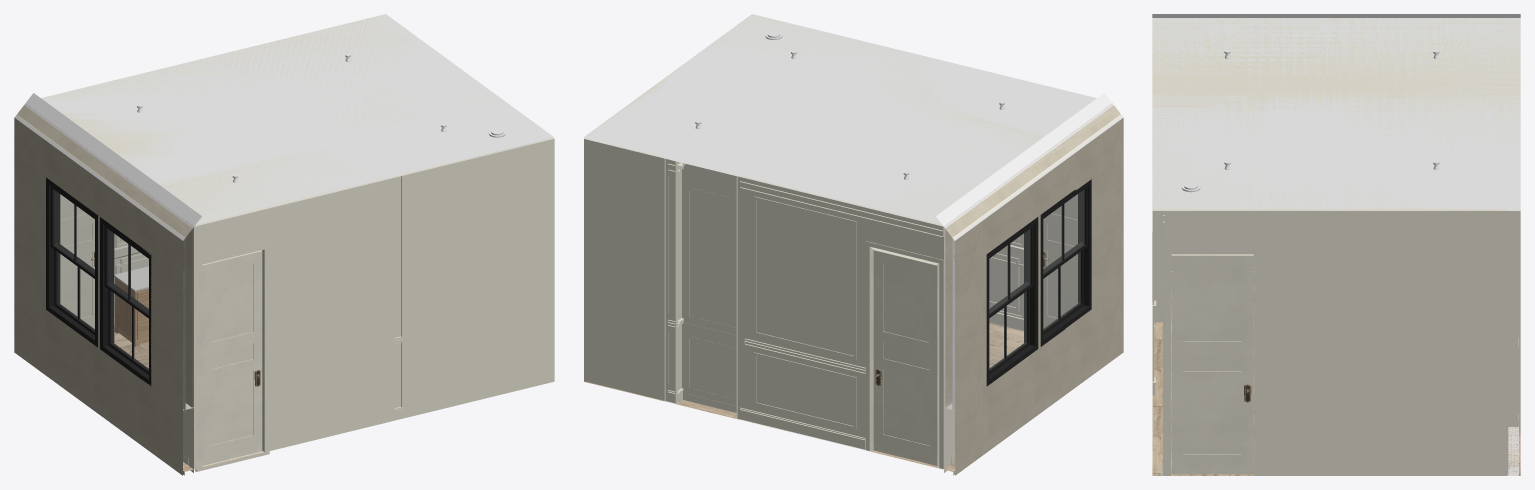
Rendered from green-bedroom-831df97ea1fa.glb.
3 renders of one model, left to right at view 1: azimuth 30°, elevation 25°; view 2: azimuth 150°, elevation 25°; view 3: azimuth 270°, elevation 25°, orthographic. The views are drawn at different scales.
Visible parts, largest first — view 1: green-bedroom-eb02897c2e79e2b1, green-bedroom-9d91b47435c6fb33, green-bedroom-e8793759323e04f0, green-bedroom-312b4ac1be39223d, green-bedroom-7406100458e293ce, green-bedroom-33ee0b466567e5f0, green-bedroom-eea30be35ce76d8a, green-bedroom-b27266f3159d5f34, green-bedroom-5e646f76b0244fe8, green-bedroom-39b94aca90fa4b53, green-bedroom-3a4d9d62ecd7be1c, green-bedroom-442e5a19ed849720 (+4 smaller); view 2: green-bedroom-9d91b47435c6fb33, green-bedroom-b6ab44e8ab2b63f4, green-bedroom-8d8280a2b3ef8b4c, green-bedroom-312b4ac1be39223d, green-bedroom-5e646f76b0244fe8, green-bedroom-689020e0fc226264, green-bedroom-33ee0b466567e5f0, green-bedroom-e8793759323e04f0, green-bedroom-eea30be35ce76d8a, green-bedroom-b27266f3159d5f34, green-bedroom-7406100458e293ce, green-bedroom-4fe5579be934d30a (+10 smaller); view 3: green-bedroom-64efeecf845bccca, green-bedroom-9d91b47435c6fb33, green-bedroom-e8793759323e04f0, green-bedroom-b50904fb6ee0544e, green-bedroom-2575515a05775d9e, green-bedroom-689020e0fc226264, green-bedroom-34287d1b870c745c, green-bedroom-eb02897c2e79e2b1, green-bedroom-442e5a19ed849720, green-bedroom-8d8280a2b3ef8b4c, green-bedroom-4fe5579be934d30a.
Boxes of the visible parts, x1=… form: green-bedroom-eb02897c2e79e2b1: x1=188, y1=139, x2=554, y2=469; green-bedroom-9d91b47435c6fb33: x1=25, y1=14, x2=554, y2=226; green-bedroom-e8793759323e04f0: x1=27, y1=14, x2=537, y2=224; green-bedroom-312b4ac1be39223d: x1=14, y1=116, x2=184, y2=409; green-bedroom-7406100458e293ce: x1=202, y1=250, x2=262, y2=465; green-bedroom-33ee0b466567e5f0: x1=14, y1=287, x2=193, y2=475; green-bedroom-eea30be35ce76d8a: x1=46, y1=177, x2=97, y2=347; green-bedroom-b27266f3159d5f34: x1=100, y1=217, x2=151, y2=386; green-bedroom-5e646f76b0244fe8: x1=60, y1=194, x2=94, y2=328; green-bedroom-39b94aca90fa4b53: x1=17, y1=105, x2=192, y2=409; green-bedroom-3a4d9d62ecd7be1c: x1=24, y1=103, x2=193, y2=407; green-bedroom-442e5a19ed849720: x1=201, y1=247, x2=266, y2=467; green-bedroom-9d91b47435c6fb33: x1=583, y1=14, x2=1112, y2=226; green-bedroom-b6ab44e8ab2b63f4: x1=736, y1=176, x2=949, y2=469; green-bedroom-8d8280a2b3ef8b4c: x1=584, y1=138, x2=681, y2=403; green-bedroom-312b4ac1be39223d: x1=953, y1=116, x2=1123, y2=409; green-bedroom-5e646f76b0244fe8: x1=873, y1=250, x2=937, y2=465; green-bedroom-689020e0fc226264: x1=676, y1=160, x2=737, y2=418; green-bedroom-33ee0b466567e5f0: x1=944, y1=287, x2=1123, y2=475; green-bedroom-e8793759323e04f0: x1=585, y1=14, x2=1110, y2=224; green-bedroom-eea30be35ce76d8a: x1=986, y1=217, x2=1038, y2=386; green-bedroom-b27266f3159d5f34: x1=1040, y1=179, x2=1091, y2=346; green-bedroom-7406100458e293ce: x1=1043, y1=194, x2=1077, y2=328; green-bedroom-4fe5579be934d30a: x1=664, y1=158, x2=676, y2=403; green-bedroom-64efeecf845bccca: x1=1164, y1=209, x2=1508, y2=475; green-bedroom-9d91b47435c6fb33: x1=1152, y1=18, x2=1520, y2=210; green-bedroom-e8793759323e04f0: x1=1152, y1=14, x2=1520, y2=209; green-bedroom-b50904fb6ee0544e: x1=1171, y1=254, x2=1253, y2=474; green-bedroom-2575515a05775d9e: x1=1152, y1=285, x2=1520, y2=475; green-bedroom-689020e0fc226264: x1=1508, y1=211, x2=1518, y2=426; green-bedroom-34287d1b870c745c: x1=1169, y1=252, x2=1256, y2=475; green-bedroom-eb02897c2e79e2b1: x1=1152, y1=209, x2=1164, y2=475; green-bedroom-442e5a19ed849720: x1=1156, y1=211, x2=1162, y2=322; green-bedroom-8d8280a2b3ef8b4c: x1=1507, y1=209, x2=1518, y2=475; green-bedroom-4fe5579be934d30a: x1=1519, y1=211, x2=1520, y2=432.
Size of the model in its own units: 4.64 by 3.04 by 3.65.
Materials: 33 (8 with a texture image).
